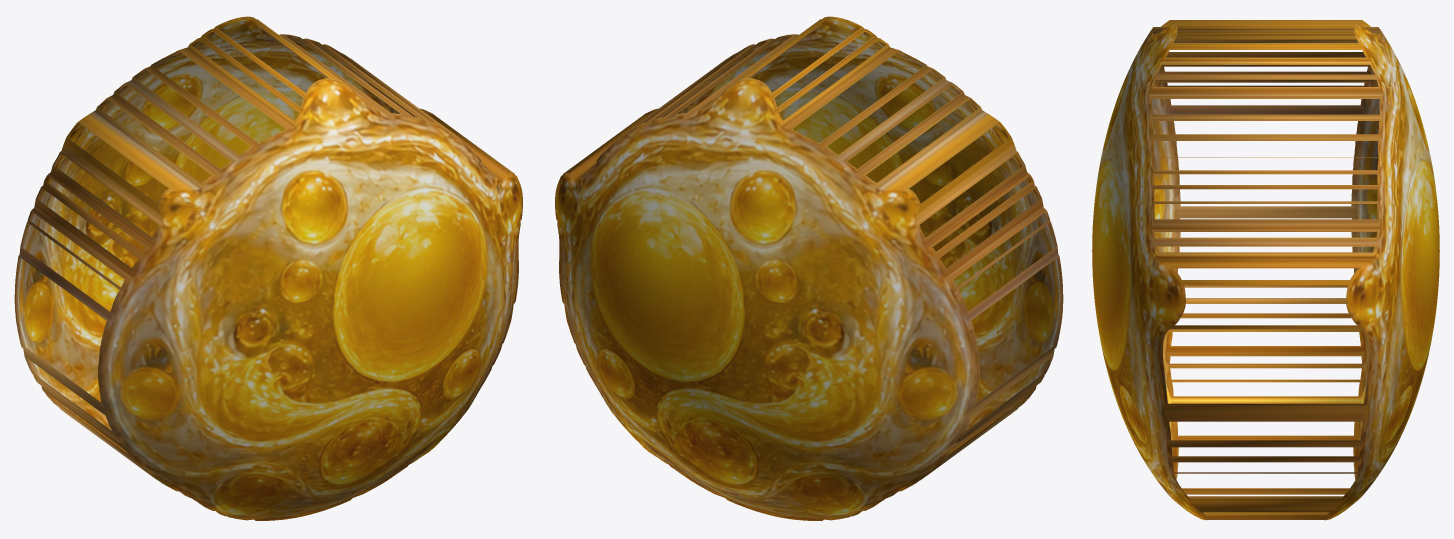
3 views of the same model, side by side, from view 1: azimuth 30°, elevation 25°; view 2: azimuth 150°, elevation 25°; view 3: azimuth 270°, elevation 25° (orthographic). The views are drawn at different scales.
Parts seen in each view (by area): view 1: cells:1; view 2: cells:1; view 3: cells:1.
Boxes of the visible parts, left/top/right/bottom form: cells:1: left=14, top=16, right=522, bottom=520; cells:1: left=555, top=16, right=1063, bottom=520; cells:1: left=1092, top=20, right=1439, bottom=520.
Size of the model in its own units: 0.9899 by 0.9565 by 0.66.
Materials: 1 (1 with a texture image).
